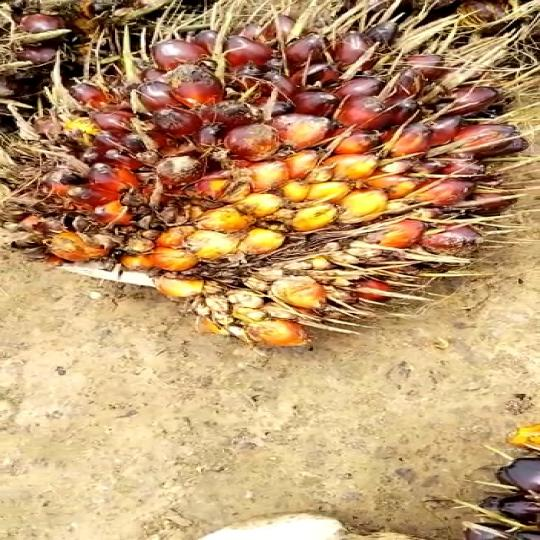masak: (0, 0, 540, 372)
